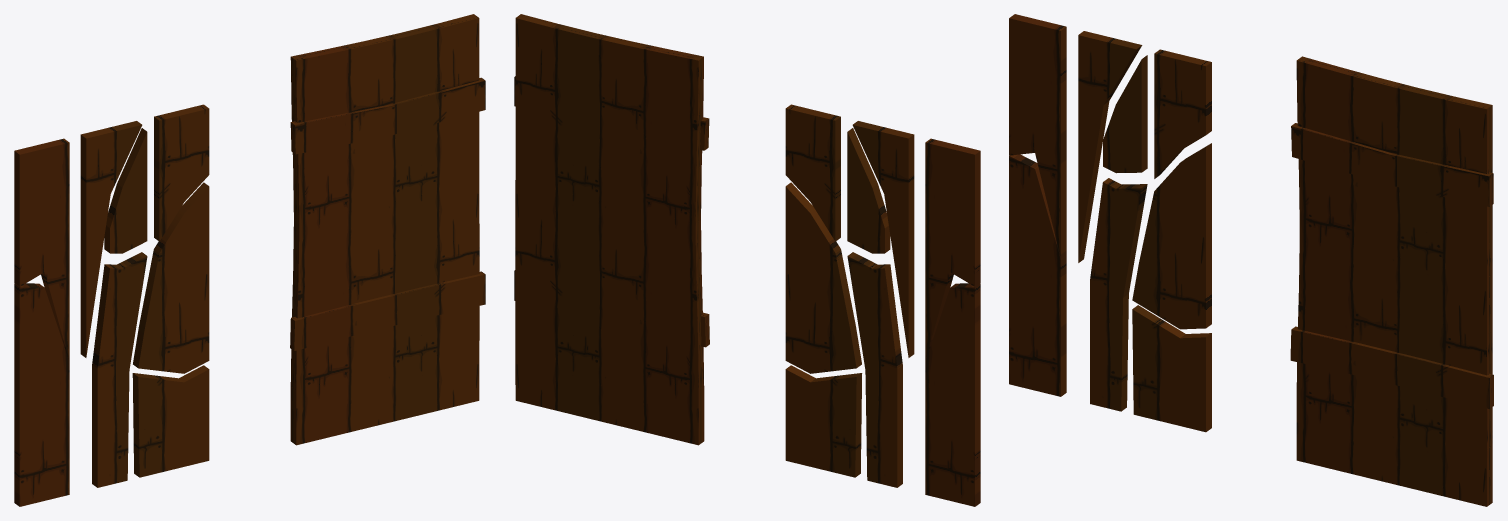
Rendered from doors.fbx.
3 renders of one model, left to right at view 1: azimuth 30°, elevation 25°; view 2: azimuth 150°, elevation 25°; view 3: azimuth 330°, elevation 25°, orthographic. The views are drawn at different scales.
Visible parts, largest first — view 1: Doors, DoorsParts.005, DoorsParts.008, DoorsParts.006, DoorsParts.004, DoorsParts.003, DoorsParts.007, DoorsParts.001, DoorsParts.002; view 2: Doors, DoorsParts.005, DoorsParts.008, DoorsParts.006, DoorsParts.004, DoorsParts.003, DoorsParts.007, DoorsParts.001, DoorsParts.002; view 3: Doors, DoorsParts.005, DoorsParts.008, DoorsParts.006, DoorsParts.004, DoorsParts.003, DoorsParts.007, DoorsParts.001, DoorsParts.002.
Part boxes in pixels (x1=…): Doors: x1=290, y1=14, x2=485, y2=445; DoorsParts.005: x1=14, y1=283, x2=69, y2=506; DoorsParts.008: x1=133, y1=182, x2=209, y2=373; DoorsParts.006: x1=14, y1=138, x2=69, y2=361; DoorsParts.004: x1=92, y1=252, x2=147, y2=487; DoorsParts.003: x1=132, y1=365, x2=209, y2=477; DoorsParts.007: x1=80, y1=121, x2=142, y2=357; DoorsParts.001: x1=154, y1=104, x2=209, y2=241; DoorsParts.002: x1=104, y1=128, x2=147, y2=253; Doors: x1=514, y1=14, x2=709, y2=445; DoorsParts.005: x1=925, y1=283, x2=980, y2=506; DoorsParts.008: x1=785, y1=182, x2=861, y2=373; DoorsParts.006: x1=925, y1=138, x2=980, y2=361; DoorsParts.004: x1=847, y1=252, x2=902, y2=487; DoorsParts.003: x1=785, y1=365, x2=862, y2=477; DoorsParts.007: x1=852, y1=121, x2=914, y2=357; DoorsParts.001: x1=785, y1=104, x2=840, y2=241; DoorsParts.002: x1=847, y1=128, x2=890, y2=253; Doors: x1=1290, y1=56, x2=1493, y2=506; DoorsParts.005: x1=1009, y1=154, x2=1066, y2=396; DoorsParts.008: x1=1132, y1=143, x2=1211, y2=329; DoorsParts.006: x1=1009, y1=14, x2=1066, y2=258; DoorsParts.004: x1=1090, y1=178, x2=1147, y2=411; DoorsParts.003: x1=1132, y1=305, x2=1211, y2=432; DoorsParts.007: x1=1078, y1=31, x2=1142, y2=262; DoorsParts.001: x1=1154, y1=49, x2=1211, y2=178; DoorsParts.002: x1=1103, y1=55, x2=1147, y2=173.
Size of the model in its own units: 246 by 195 by 6.83.
Materials: 1 (1 with a texture image).
